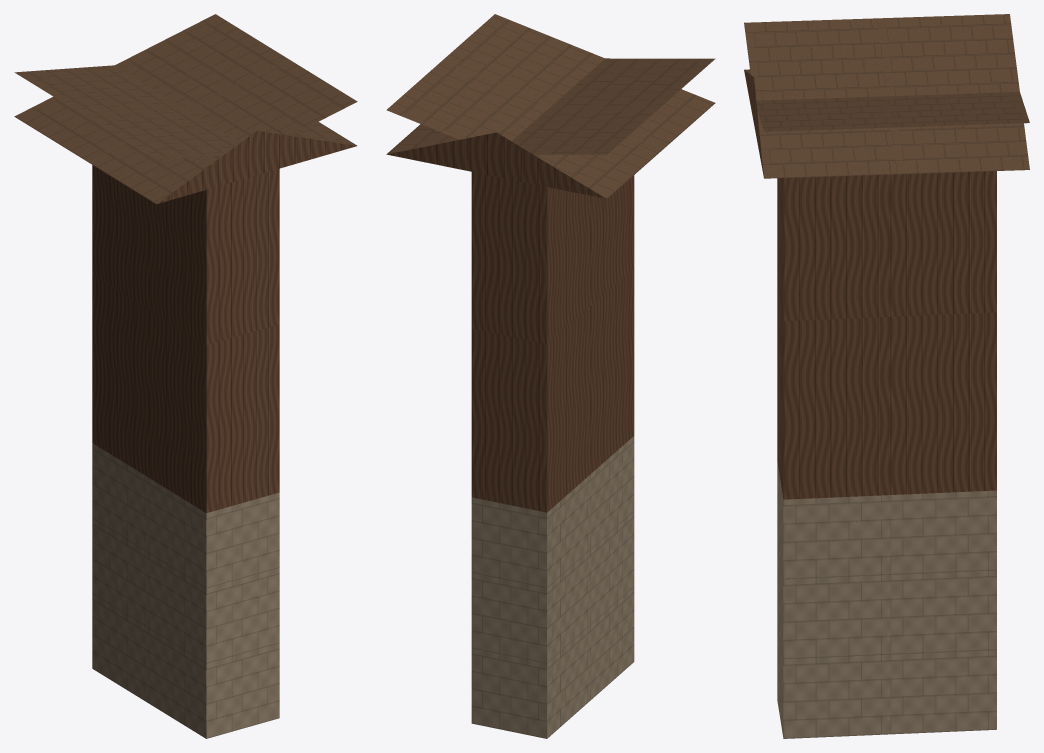
Rendered from bld_c5_-3_563.gltf.
3 renders of one model, left to right at view 1: azimuth 30°, elevation 25°; view 2: azimuth 150°, elevation 25°; view 3: azimuth 270°, elevation 25°, orthographic. The views are drawn at different scales.
Visible parts, largest first — view 1: bld_c5_-3_563; view 2: bld_c5_-3_563; view 3: bld_c5_-3_563.
Part boxes in pixels (box(x1,y1,x2,y2)): bld_c5_-3_563: box(14, 14, 357, 738); bld_c5_-3_563: box(386, 14, 715, 738); bld_c5_-3_563: box(744, 14, 1029, 738).
Size of the model in its own units: 5.38 by 13.7 by 5.52.
4 materials, 4 textured.
